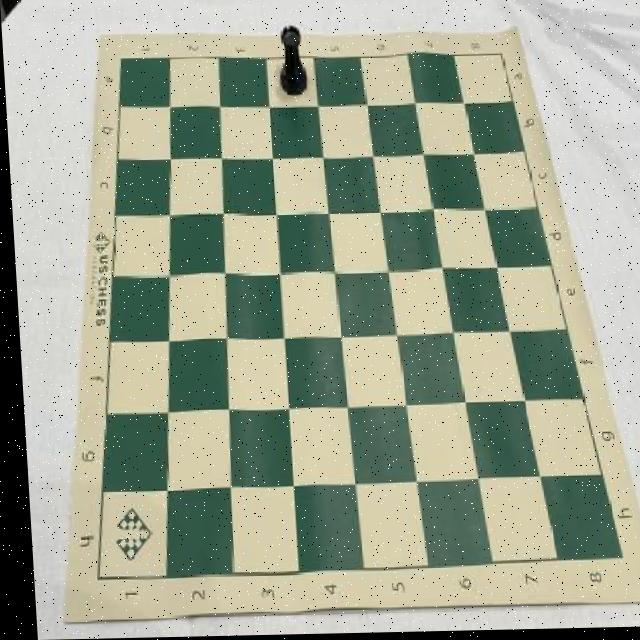black-queen: (277, 27, 308, 98)
